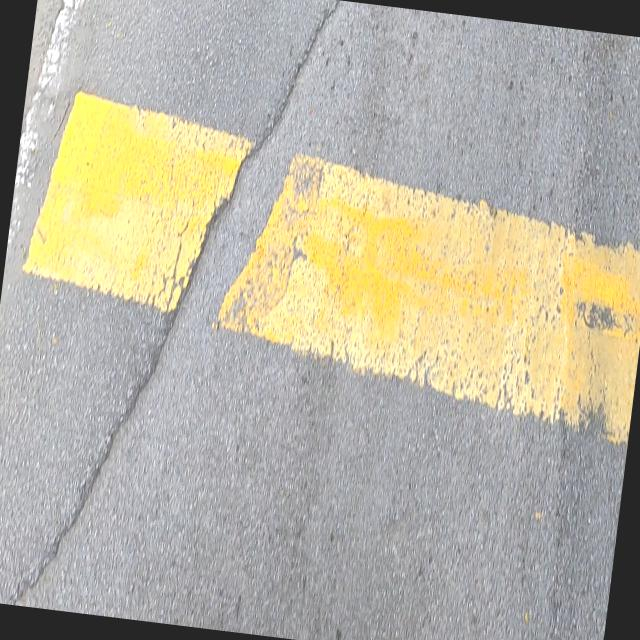Retak-Memanjang: (4, 2, 336, 606)
